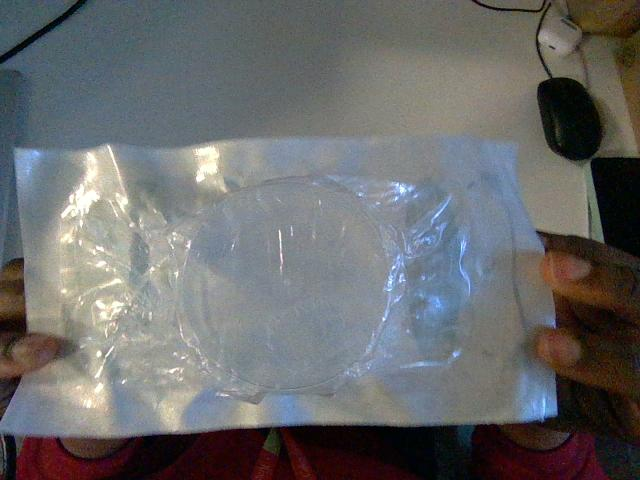gallipot: (0, 137, 554, 436), (178, 181, 390, 391)
